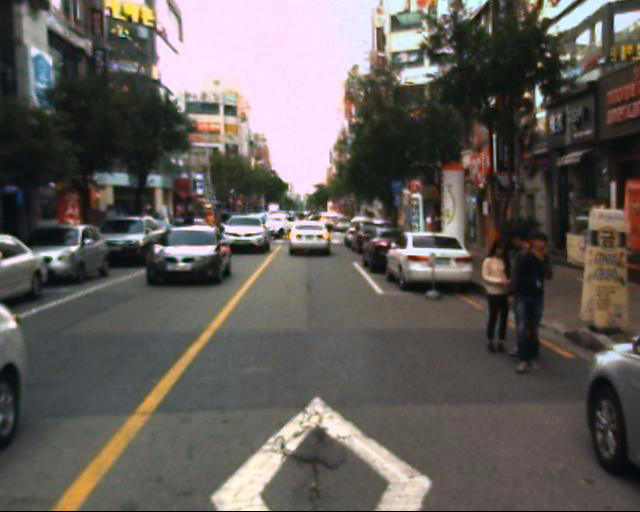person: (502, 221, 549, 381), (475, 229, 518, 363)
